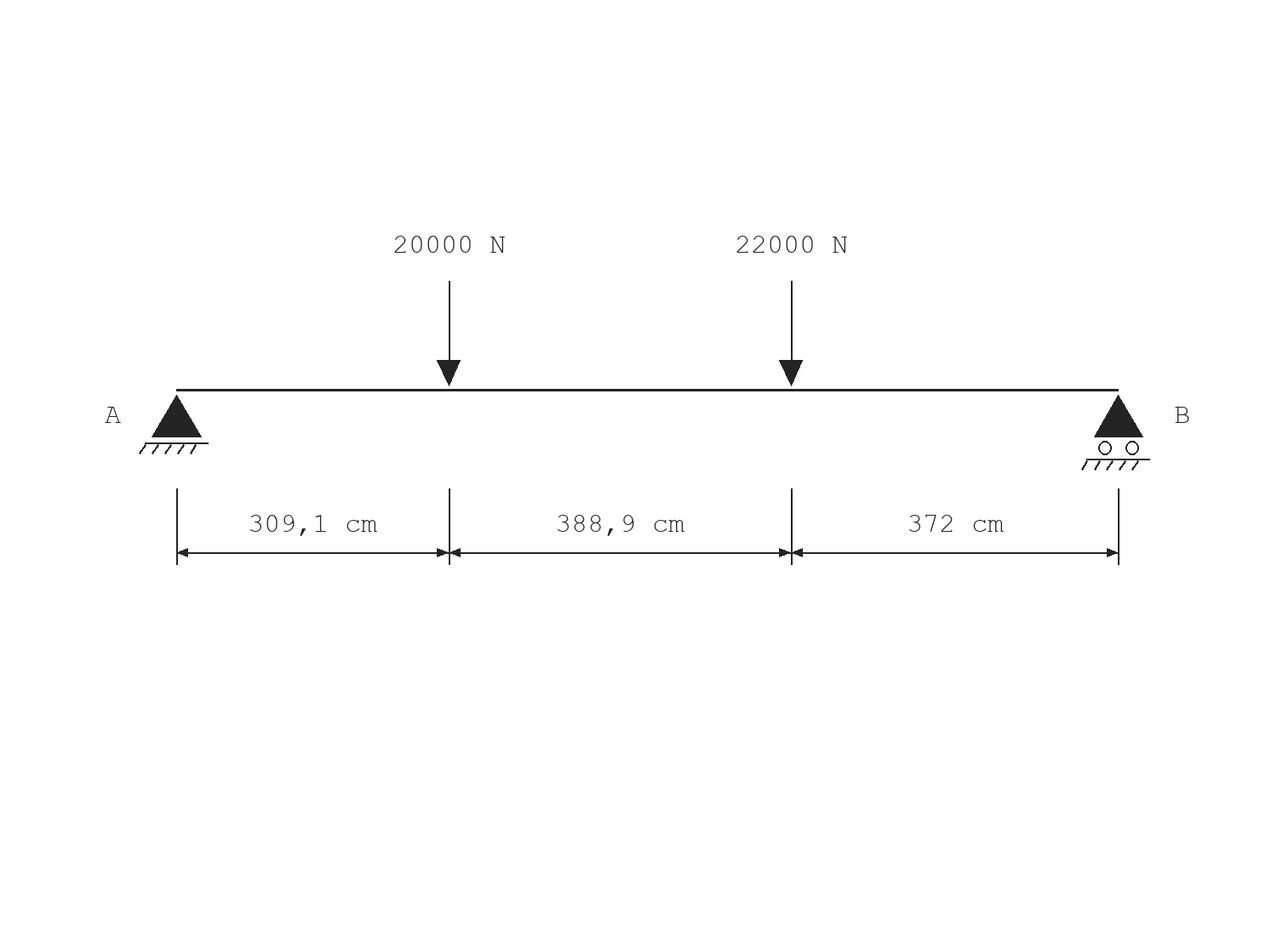pin_support: (139, 395, 209, 454)
point_load: (437, 281, 461, 386), (779, 281, 803, 386)
roller_support: (1081, 395, 1150, 471)
